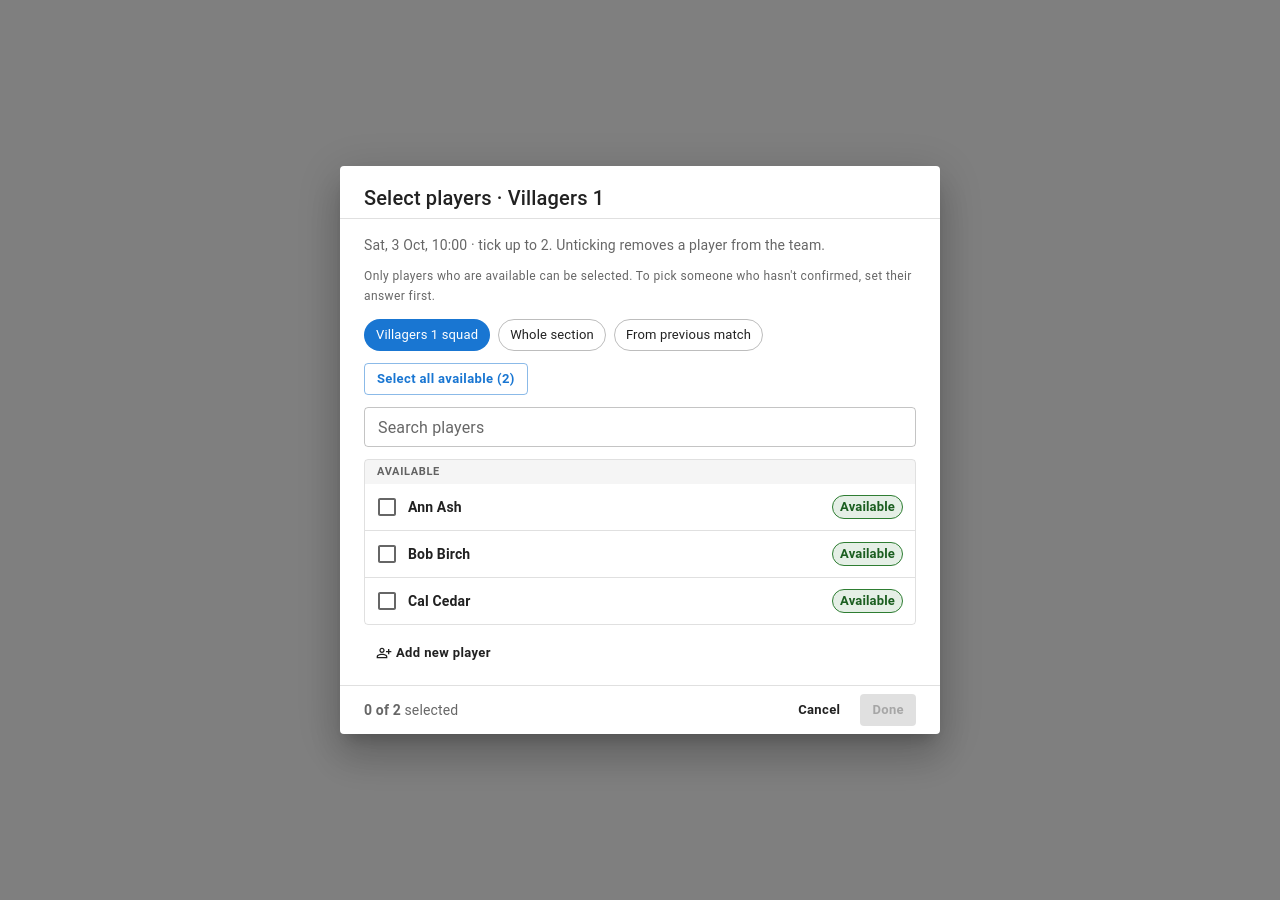
Test case: SelectPlayersDialog › ticking › greys out the rest with "Team is full" at the limit, and unticking frees them
Click the checkbox labelled "Ann Ash". click: point(418, 507)
box: top-left (375, 495), bottom-right (462, 519)
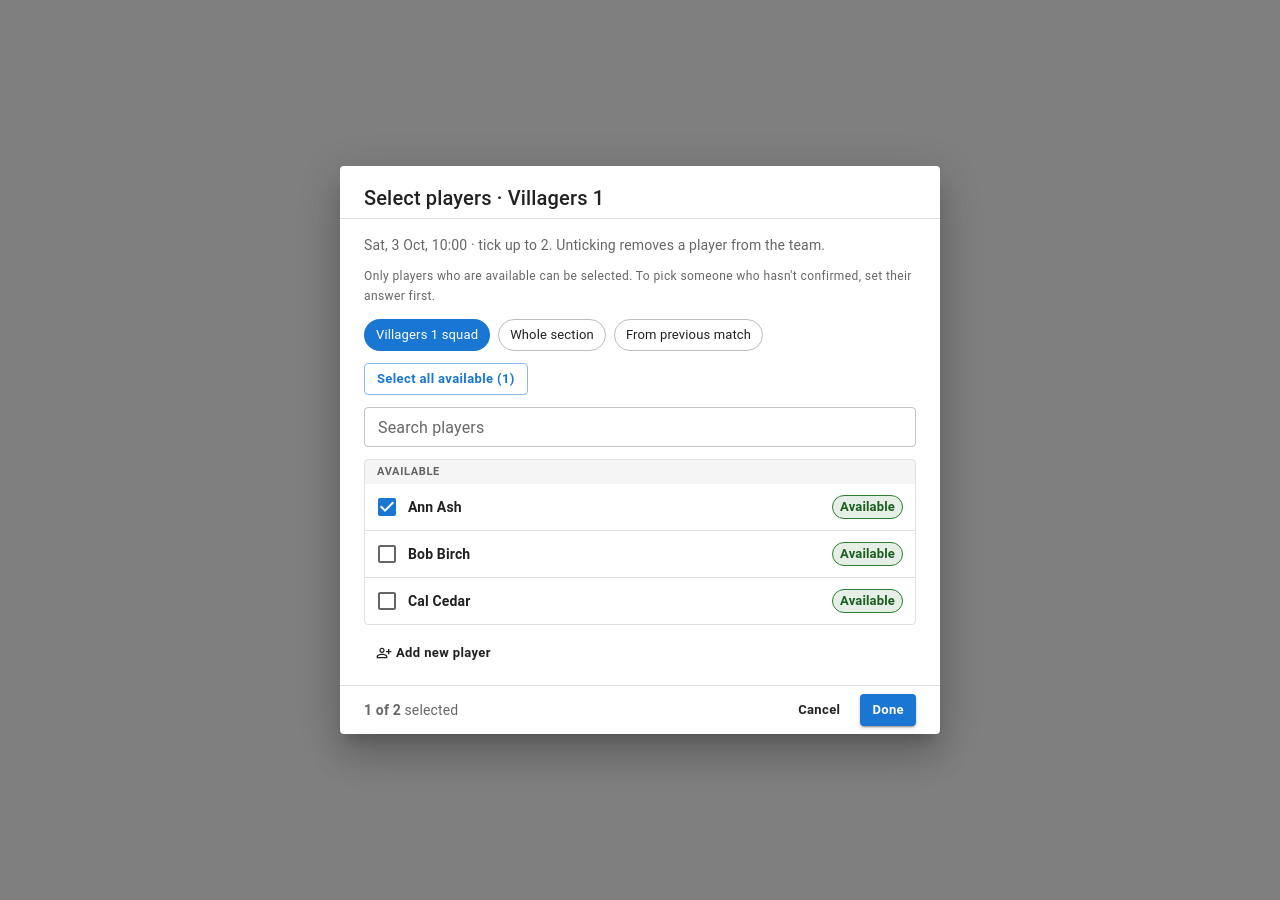
Click the checkbox labelled "Bob Birch". click: point(423, 554)
box: top-left (375, 542), bottom-right (470, 566)
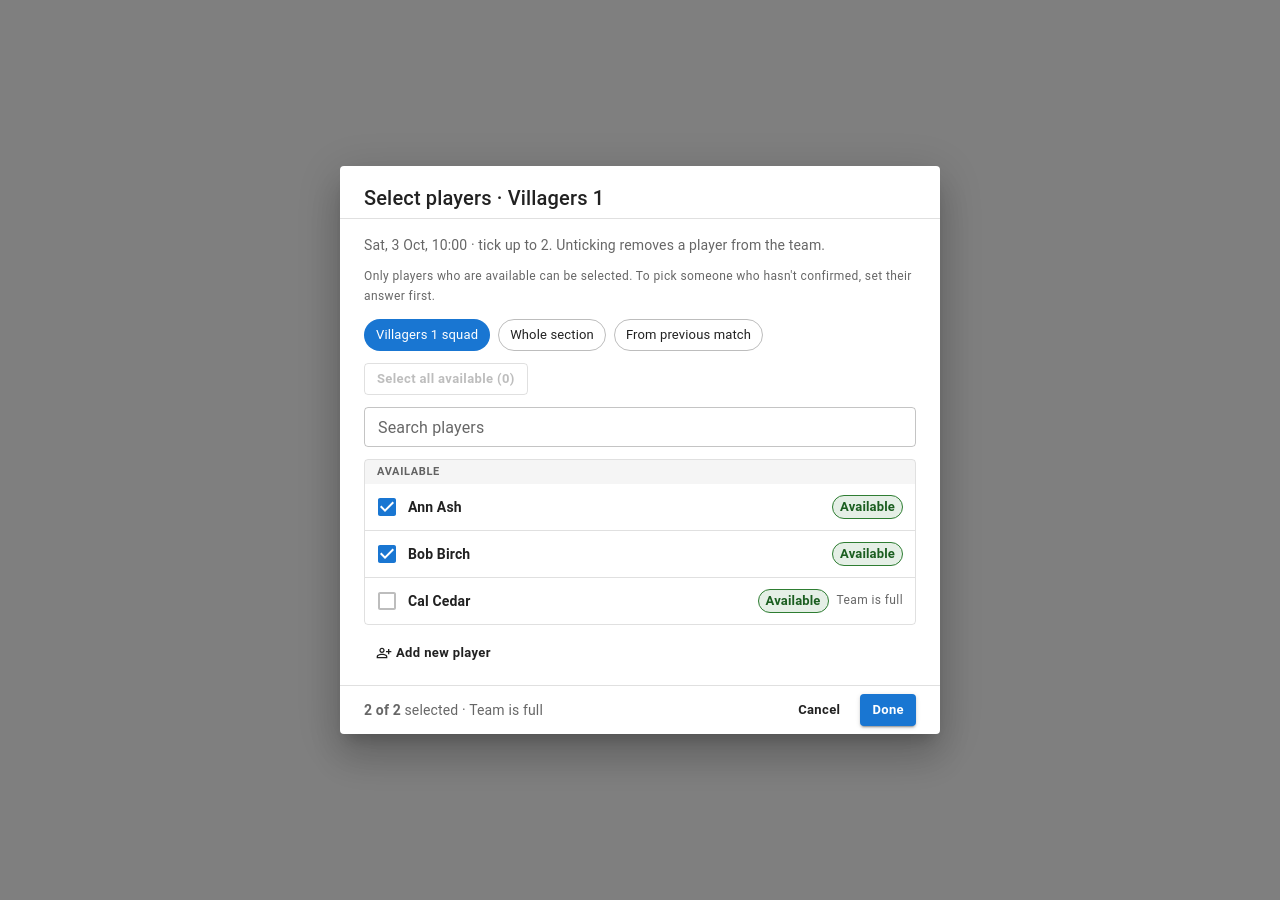
Check: the checkbox labelled "Cal Cedar" is disabled, box top-left (375, 589), bottom-right (470, 613)
Check: the text "Team is full" is shown, box top-left (836, 591), bottom-right (903, 611)
Check: the text "2 of 2 selected · Team is full" is shown, box top-left (364, 700), bottom-right (543, 720)
Click the checkbox labelled "Ann Ash". click: point(418, 507)
box: top-left (375, 495), bottom-right (462, 519)
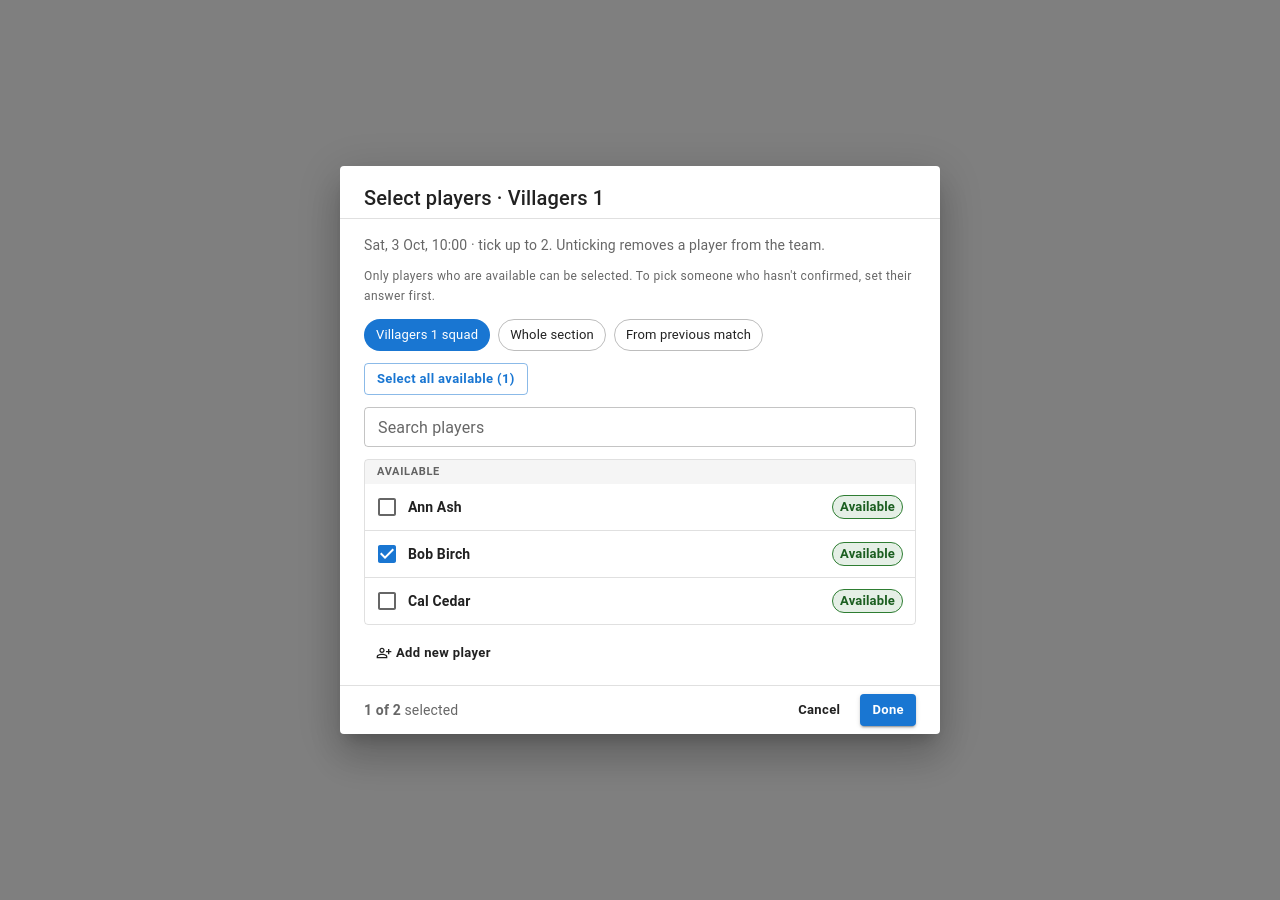
Check: the checkbox labelled "Cal Cedar" is enabled, box top-left (375, 589), bottom-right (470, 613)
